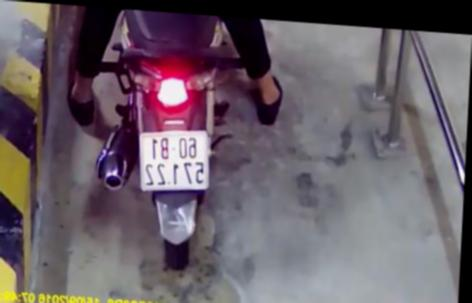License_Plate: (132, 121, 216, 199)
